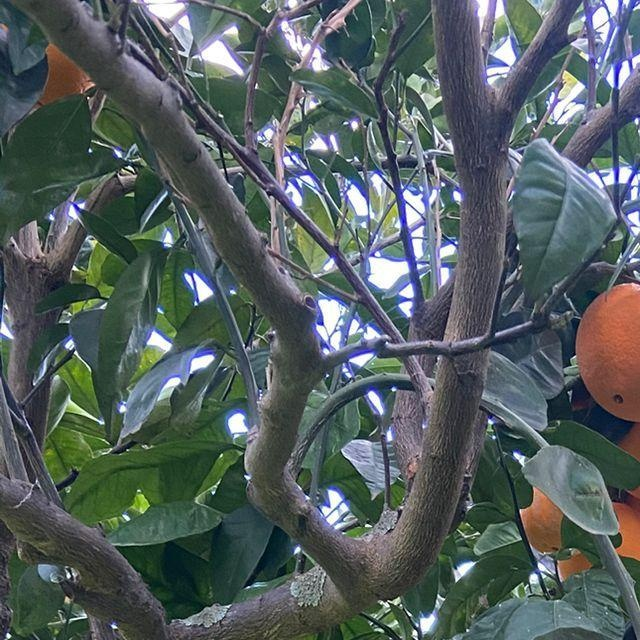orange: (5, 0, 115, 128), (563, 274, 640, 424), (542, 494, 640, 594), (511, 462, 585, 560), (609, 371, 640, 499), (612, 458, 640, 566)
